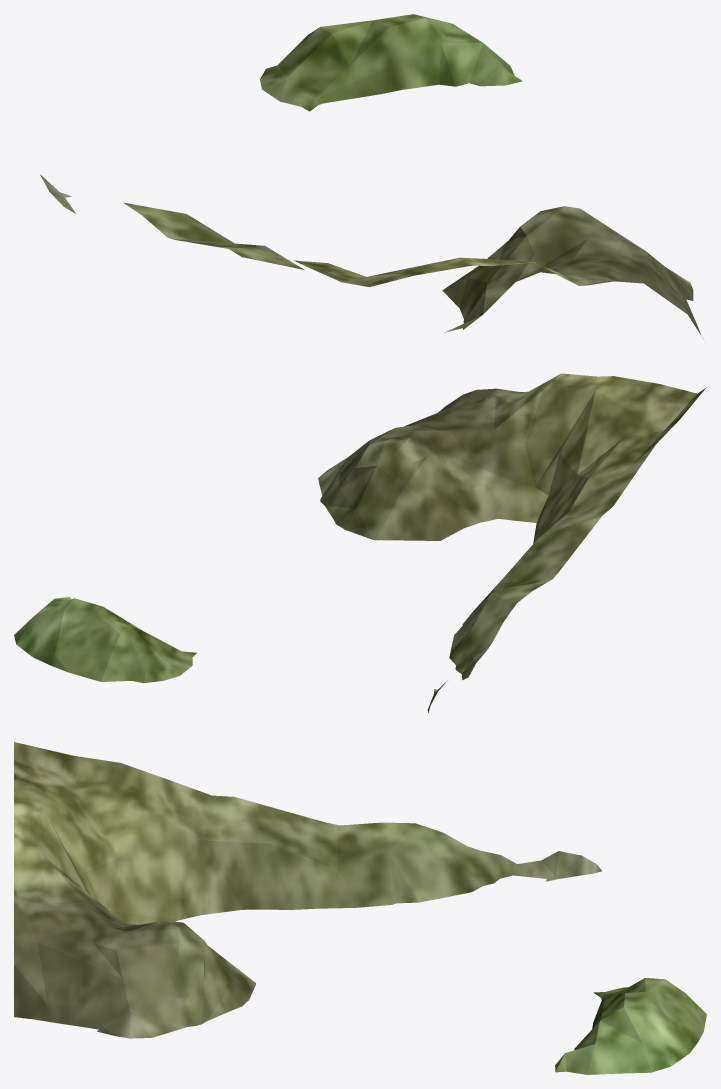
The picture shows the model from 3 angles, top to bottom: view 1: azimuth 30°, elevation 25°; view 2: azimuth 150°, elevation 25°; view 3: azimuth 270°, elevation 25°; orthographic projection. The views are drawn at different scales.
Size of the model in its own units: 1.86 by 0.5497 by 2.67.
Materials: 1 (1 with a texture image).
